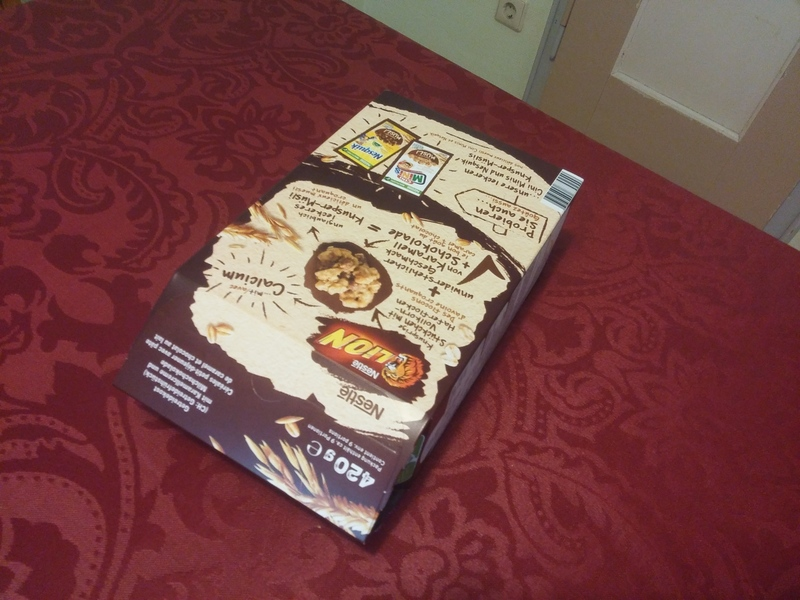cereals: (111, 88, 586, 550)
